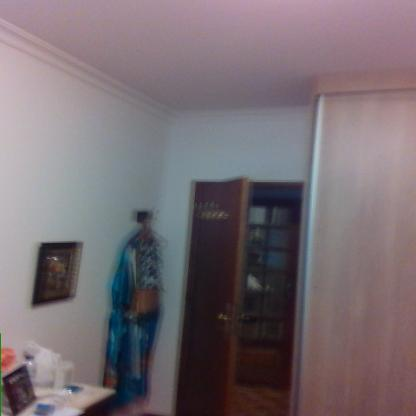semi: (183, 160, 316, 416)
